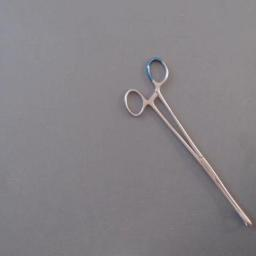Sponge Forceps: (121, 50, 255, 238)
